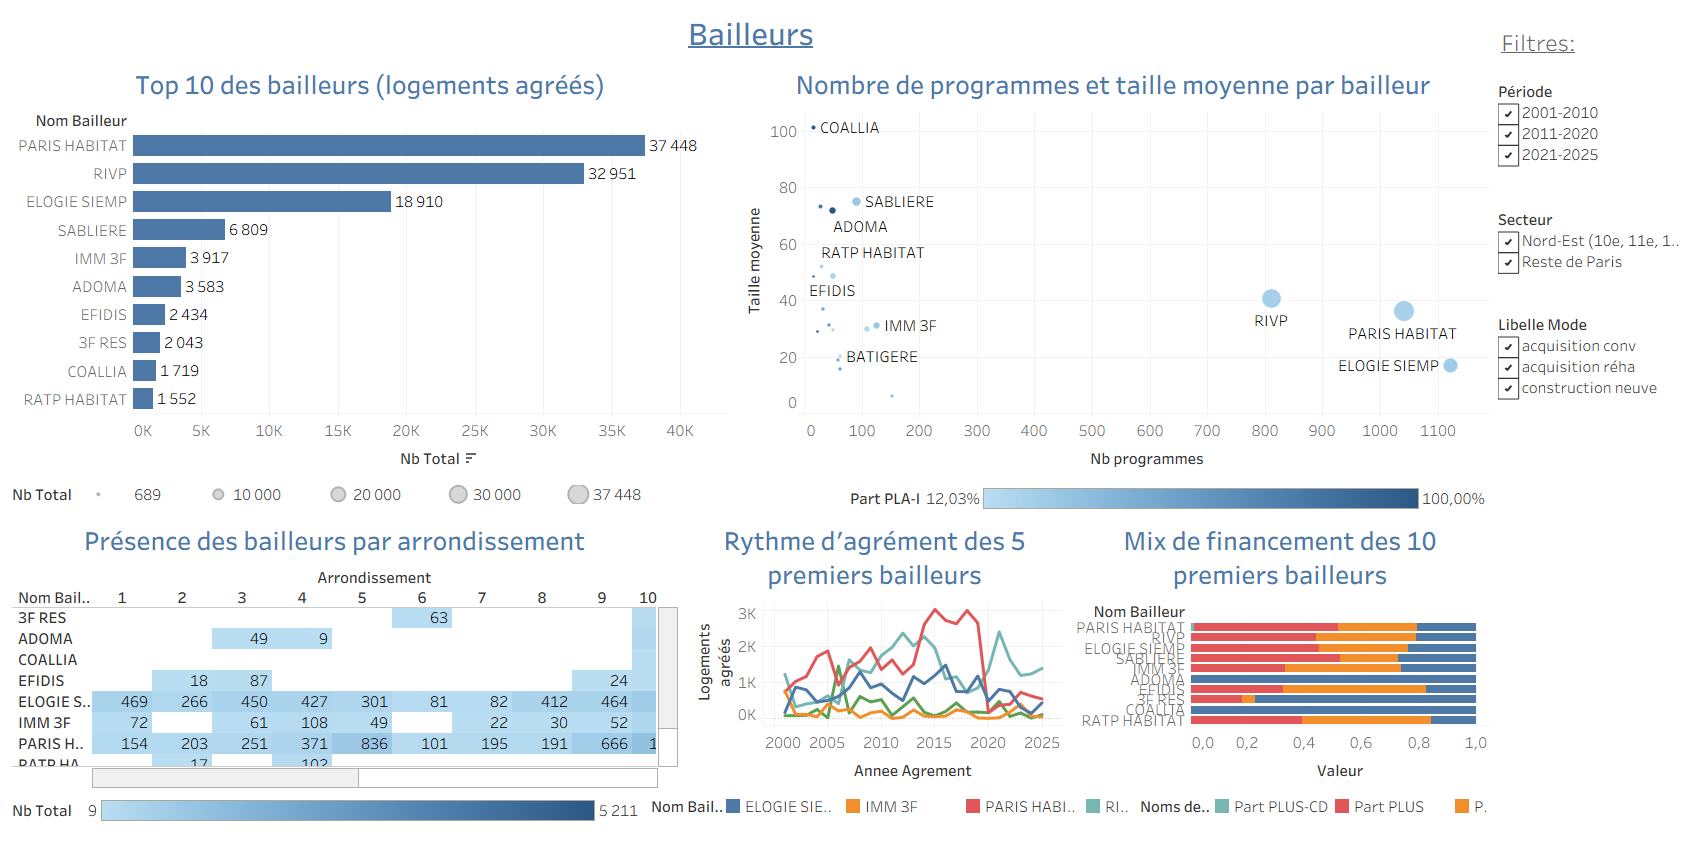

The page's visual inventory and layout, read from the dashboard file:
{"tool":"tableau","page":{"name":"Bailleurs","canvas":[1700,850],"ordinal":0},"visuals":[{"type":"title","box":[8,8,1486,49]},{"type":"text","box":[1494,8,198,68]},{"type":"worksheet","title":"Top 10 bailleurs","mark":"Bar","rows":["nom_bailleur"],"cols":["nb_total"],"box":[8,57,724,423.3]},{"type":"worksheet","title":"Taille des bailleurs","mark":"Circle","rows":["Calculation_1774954314285060"],"cols":["Calculation_1774954314149891"],"box":[732,57,762,423.3]},{"type":"filter","title":"Taille des bailleurs","param":"[federated.0s6su5l1ucoj3y10dtg95040we4o].[none:Calculation_1774954313900032:nk]","box":[1494,76,198,128]},{"type":"filter","title":"Taille des bailleurs","param":"[federated.0s6su5l1ucoj3y10dtg95040we4o].[none:Calculation_1774954314084354:nk]","box":[1494,204,198,105]},{"type":"filter","title":"Taille des bailleurs","param":"[federated.0s6su5l1ucoj3y10dtg95040we4o].[none:libelle_mode:nk]","box":[1494,309,198,128]},{"type":"legend","title":"Taille des bailleurs","param":"[federated.0s6su5l1ucoj3y10dtg95040we4o].[sum:nb_total:qk]","box":[8,480.3,838,32.7]},{"type":"legend","title":"Taille des bailleurs","param":"[federated.0s6su5l1ucoj3y10dtg95040we4o].[usr:Calculation_1774954314416134:qk]","box":[846,480.3,648,32.7]},{"type":"worksheet","title":"Feuille 20","mark":"Square","rows":["nom_bailleur"],"cols":["arrondissement"],"box":[8,512.9,673.5,279.1]},{"type":"worksheet","title":"Top 5 dans le temps ","mark":"Automatic","rows":["nb_total"],"cols":["annee_agrement"],"box":[681.5,512.9,384.7,279.1]},{"type":"worksheet","title":"Mix de financement","mark":"Bar","rows":["nom_bailleur"],"box":[1066.3,512.9,427.7,279.1]},{"type":"legend","title":"Feuille 20","param":"[federated.0s6su5l1ucoj3y10dtg95040we4o].[sum:nb_total:qk]","box":[8,792,638.9,50]},{"type":"legend","title":"Top 5 dans le temps ","param":"[federated.0s6su5l1ucoj3y10dtg95040we4o].[none:nom_bailleur:nk]","box":[647,792,488.7,50]},{"type":"legend","title":"Mix de financement","param":"[federated.0s6su5l1ucoj3y10dtg95040we4o].[:Measure Names]","box":[1135.7,792,358.3,50]}]}

Visuals, with their boxes in screenshot pixels (x1, y1, x2, y2), scaled from the page's 1700x850 canvas onto the 1700x850 screenshot:
title: l=8, t=8, r=1494, b=57
text: l=1494, t=8, r=1692, b=76
"Top 10 bailleurs" worksheet (Bar marks): l=8, t=57, r=732, b=480
"Taille des bailleurs" worksheet (Circle marks): l=732, t=57, r=1494, b=480
"Taille des bailleurs" filter: l=1494, t=76, r=1692, b=204
"Taille des bailleurs" filter: l=1494, t=204, r=1692, b=309
"Taille des bailleurs" filter: l=1494, t=309, r=1692, b=437
"Taille des bailleurs" legend: l=8, t=480, r=846, b=513
"Taille des bailleurs" legend: l=846, t=480, r=1494, b=513
"Feuille 20" worksheet (Square marks): l=8, t=513, r=682, b=792
"Top 5 dans le temps " worksheet: l=682, t=513, r=1066, b=792
"Mix de financement" worksheet (Bar marks): l=1066, t=513, r=1494, b=792
"Feuille 20" legend: l=8, t=792, r=647, b=842
"Top 5 dans le temps " legend: l=647, t=792, r=1136, b=842
"Mix de financement" legend: l=1136, t=792, r=1494, b=842
